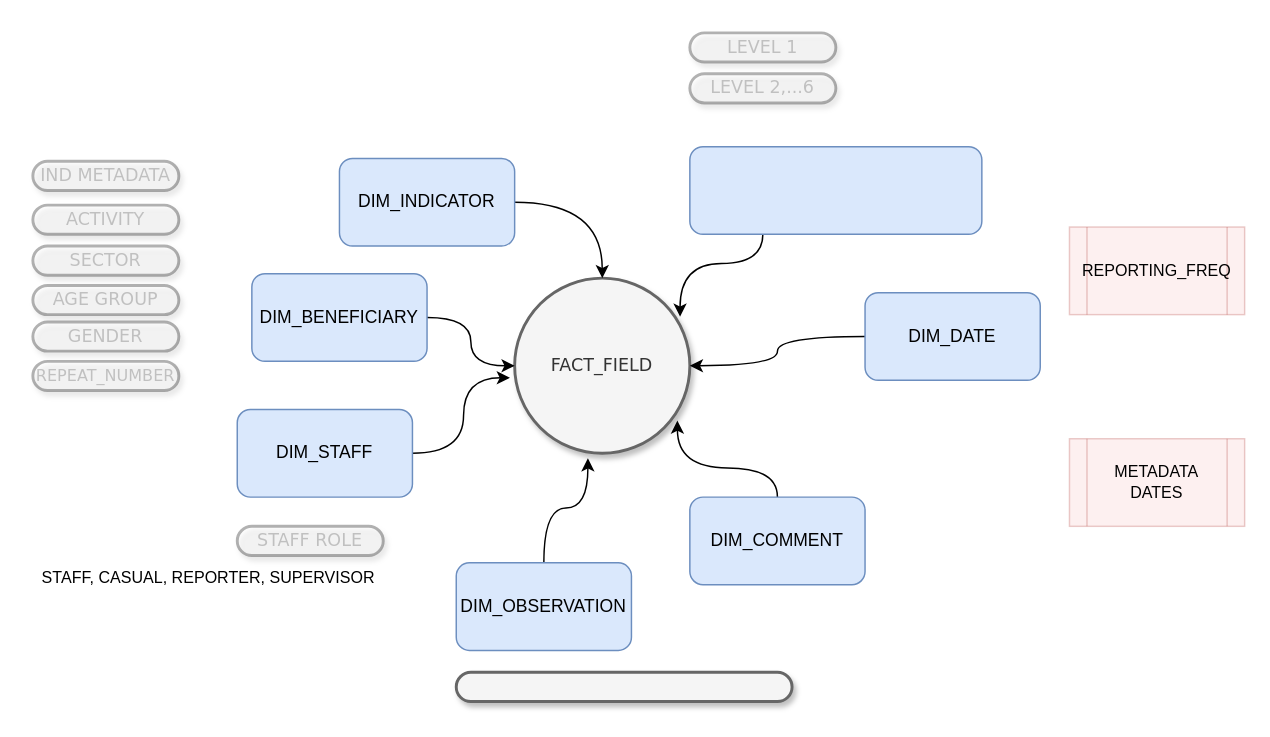
Some shapes in this 1270 by 737 pixel diagram are drawn without their labels. Here are the shapes that lost their labels. From the top down, the centre of each, then its label:
pixel 835 189: DIM_ADMINISTRATIVE_LEVEL
pixel 625 688: OBSERVATION METADATA DATES
